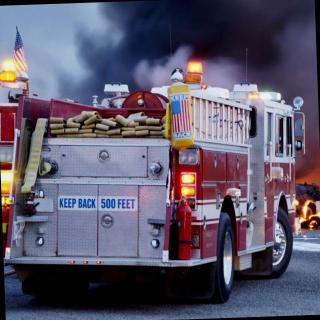Fire_truck: (0, 46, 311, 310)
